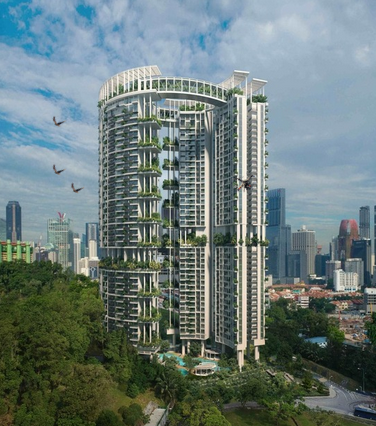drone_other: (231, 173, 257, 194)
